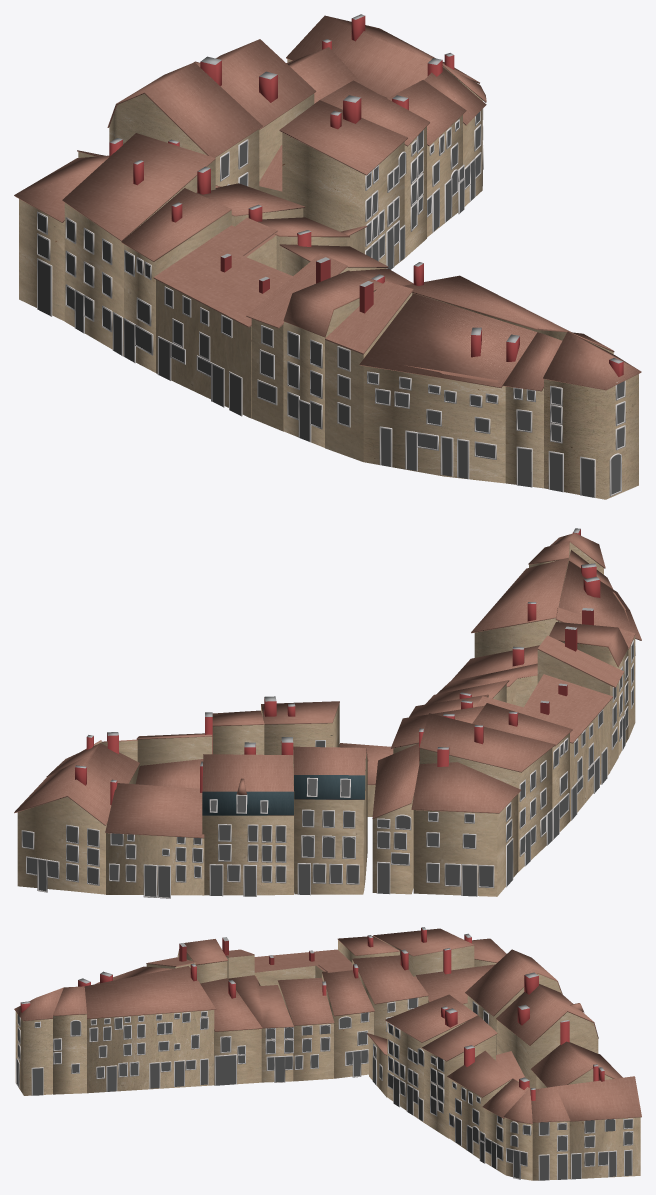
File: ilot32combine.fbx
3 views of the same model, one above another, from view 1: azimuth 30°, elevation 25°; view 2: azimuth 150°, elevation 25°; view 3: azimuth 270°, elevation 25° (orthographic). The views are drawn at different scales.
Parts seen in each view (by area): view 1: _ILOT32BAT20, _ILOT32BAT3, _ILOT32BAT11, _ILOT32BAT8, _ILOT32BAT4, _ILOT32BAT6, _ILOT32BAT12, _ILOT32BAT10, _ILOT32BAT26, _ILOT32BAT1, _ILOT32BAT14, _ILOT32BAT15 (+9 smaller); view 2: _ILOT32BAT14, _ILOT32BAT1, _ILOT32BAT15, _ILOT32BAT6, _ILOT32BAT16, _ILOT32BAT8, _ILOT32BAT3, _ILOT32BAT11, _ILOT32BAT7, _ILOT32BAT27, _ILOT32BAT12, _ILOT32BAT4 (+12 smaller); view 3: _ILOT32BAT3, _ILOT32BAT15, _ILOT32BAT14, _ILOT32BAT4, _ILOT32BAT25, _ILOT32BAT17, _ILOT32BAT13, _ILOT32BAT18, _ILOT32BAT5, _ILOT32BAT24, _ILOT32BAT19, _ILOT32BAT6 (+14 smaller).
Part boxes in pixels (x1,y1,x2,y2): _ILOT32BAT20: (359, 293, 562, 488); _ILOT32BAT3: (403, 262, 641, 499); _ILOT32BAT11: (153, 217, 292, 418); _ILOT32BAT8: (62, 133, 215, 356); _ILOT32BAT4: (279, 95, 407, 269); _ILOT32BAT6: (107, 62, 262, 190); _ILOT32BAT12: (121, 188, 231, 372); _ILOT32BAT10: (283, 270, 382, 447); _ILOT32BAT26: (325, 281, 413, 461); _ILOT32BAT1: (14, 138, 122, 321); _ILOT32BAT14: (194, 39, 316, 181); _ILOT32BAT15: (286, 14, 479, 98); _ILOT32BAT14: (202, 737, 293, 896); _ILOT32BAT1: (411, 747, 521, 896); _ILOT32BAT15: (14, 732, 139, 894); _ILOT32BAT6: (293, 746, 368, 895); _ILOT32BAT16: (105, 761, 204, 898); _ILOT32BAT8: (419, 713, 555, 871); _ILOT32BAT3: (471, 528, 605, 657); _ILOT32BAT11: (476, 674, 612, 821); _ILOT32BAT7: (372, 728, 423, 894); _ILOT32BAT27: (537, 626, 624, 771); _ILOT32BAT12: (472, 703, 572, 839); _ILOT32BAT4: (261, 696, 339, 754); _ILOT32BAT3: (14, 963, 216, 1095); _ILOT32BAT15: (519, 1064, 641, 1180); _ILOT32BAT14: (496, 972, 598, 1088); _ILOT32BAT4: (385, 994, 477, 1122); _ILOT32BAT25: (200, 978, 262, 1085); _ILOT32BAT17: (277, 977, 334, 1081); _ILOT32BAT13: (447, 1045, 513, 1163); _ILOT32BAT18: (322, 964, 374, 1078); _ILOT32BAT5: (422, 1015, 497, 1138); _ILOT32BAT24: (228, 975, 293, 1082); _ILOT32BAT19: (352, 949, 428, 1038); _ILOT32BAT6: (465, 949, 562, 1054).
Bounding box in the file's own units: 8.38 × 2.91 × 13.72.
